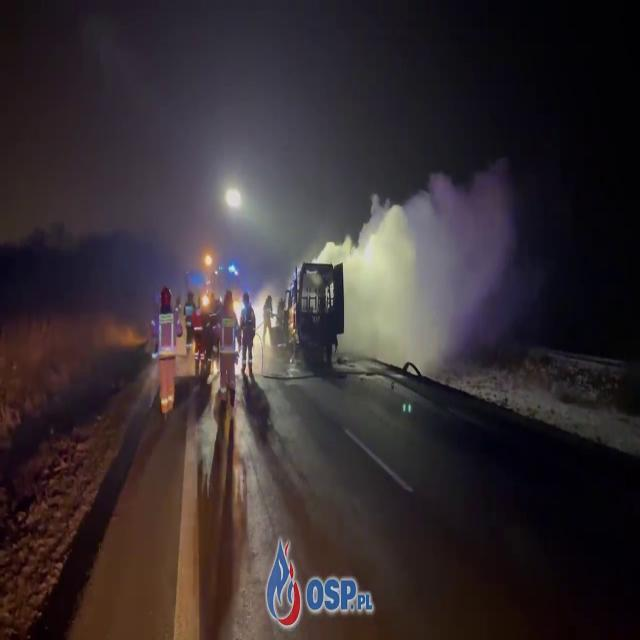Smoke: (345, 156, 519, 364)
